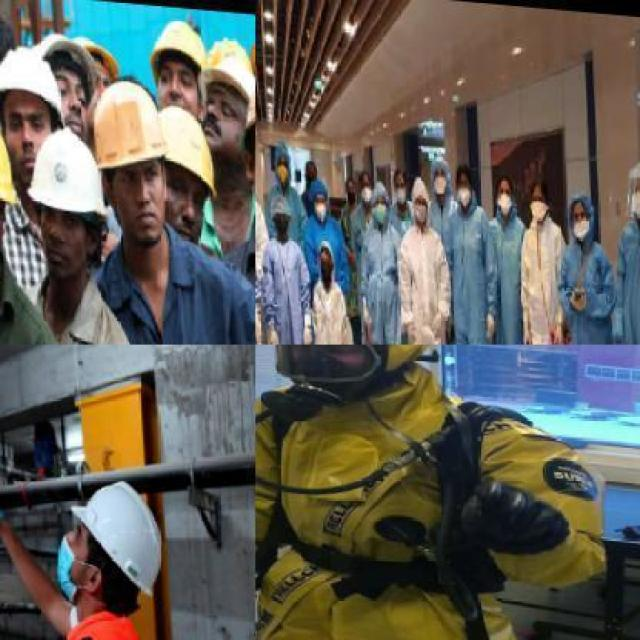Vest: (255, 371, 616, 638), (100, 240, 254, 343), (442, 197, 496, 343), (517, 209, 574, 343), (394, 217, 451, 343), (558, 229, 618, 343), (354, 215, 403, 343), (485, 206, 529, 343), (260, 234, 312, 343), (308, 277, 350, 343), (300, 220, 346, 275), (256, 191, 266, 277)
